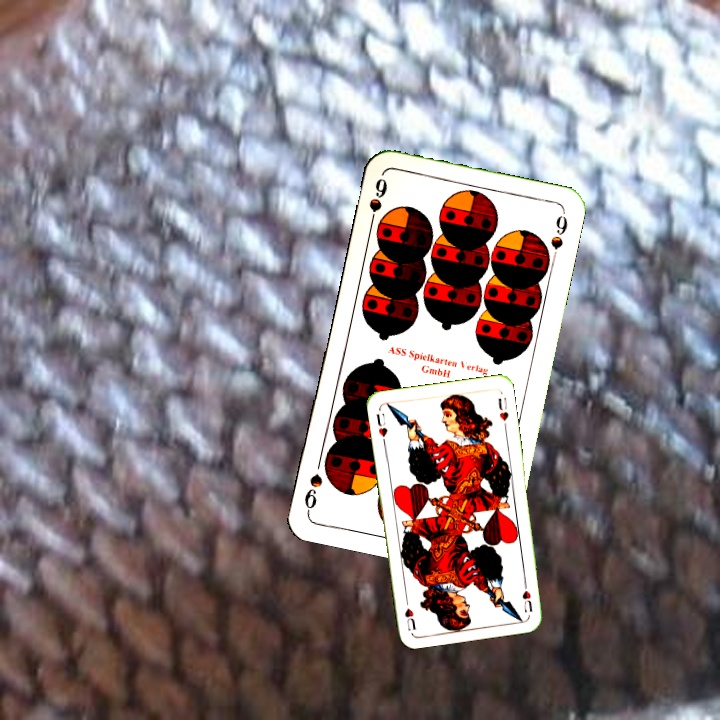HU: (372, 409, 390, 446), (518, 576, 535, 614)
S9: (365, 174, 390, 231)
